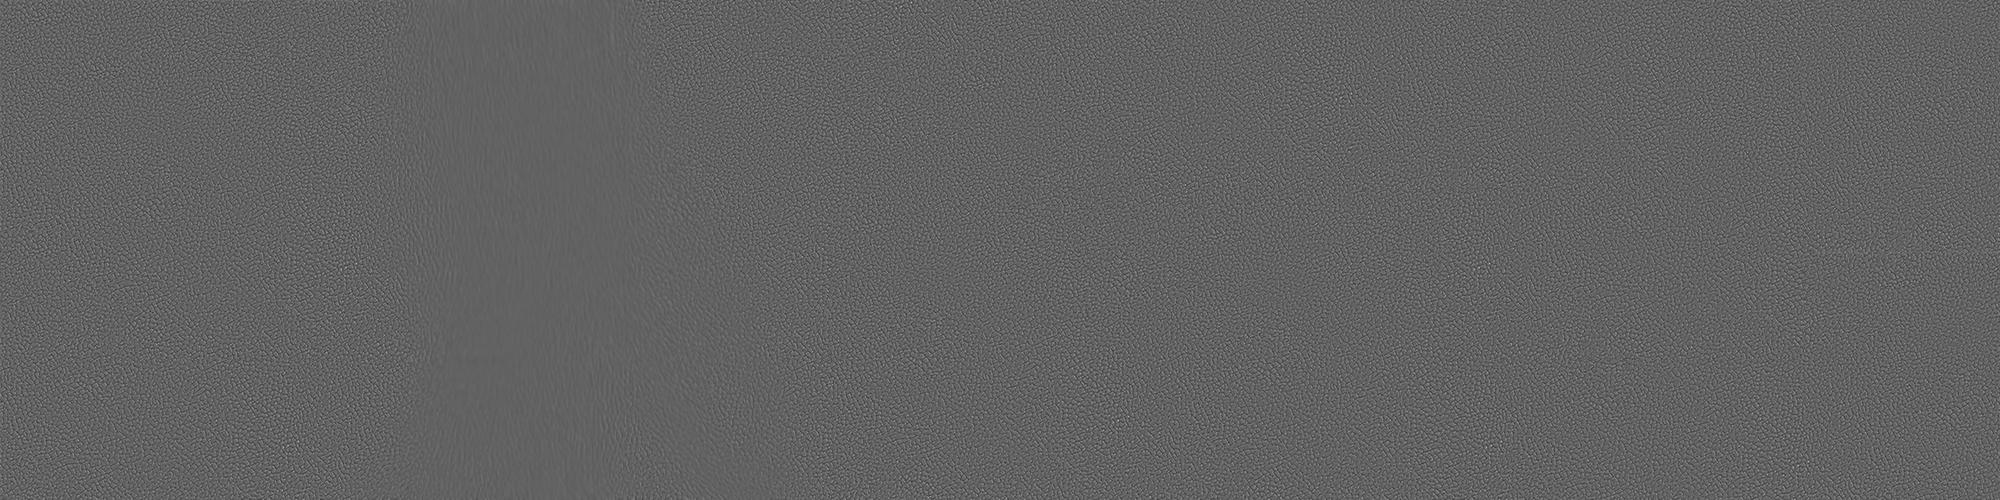Flow_Lines: (372, 14, 608, 487)
